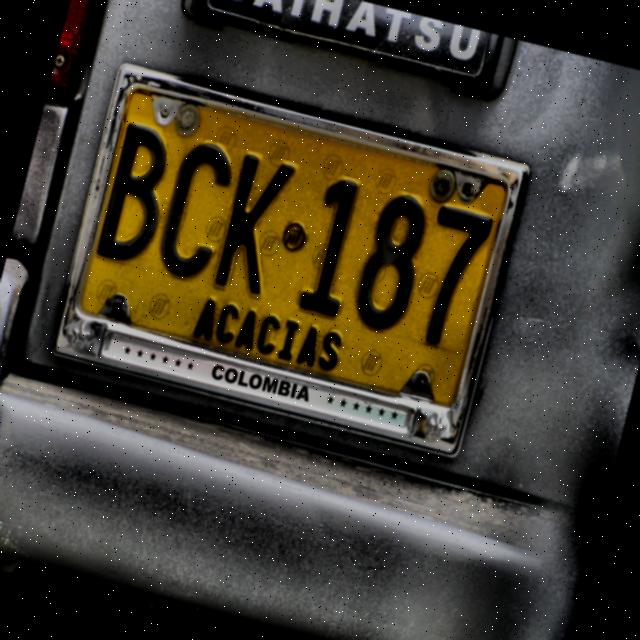plate: (83, 86, 505, 404)
